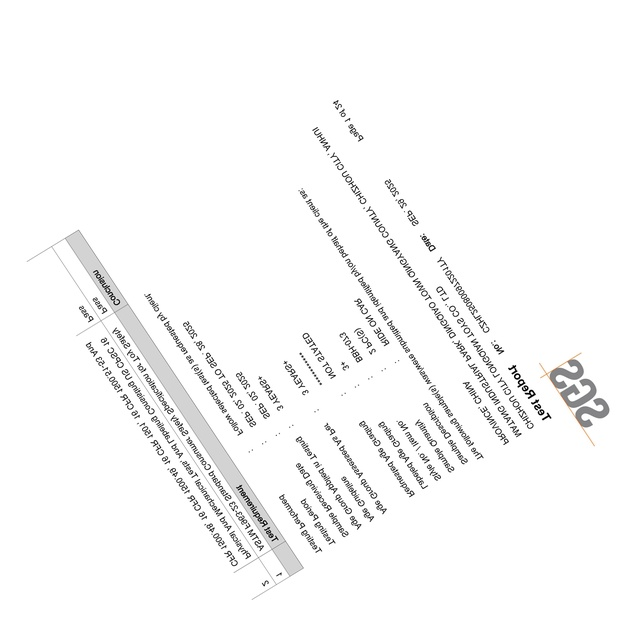sgs: (549, 358, 609, 428)
